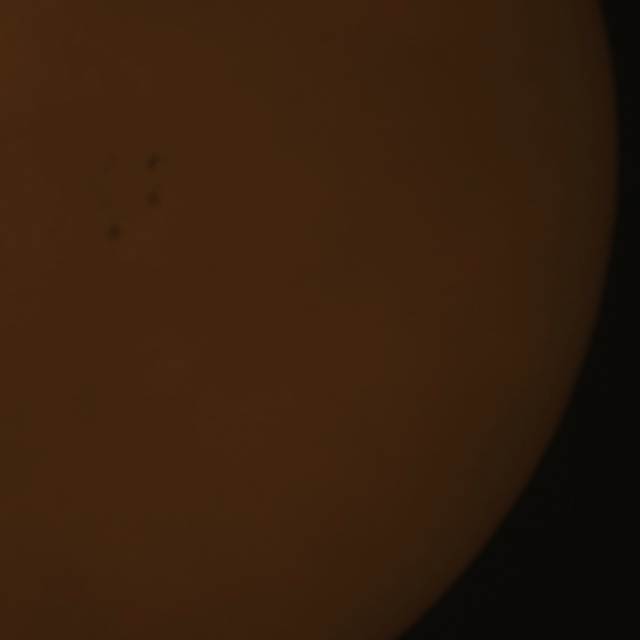sunspot: (141, 151, 171, 175)
